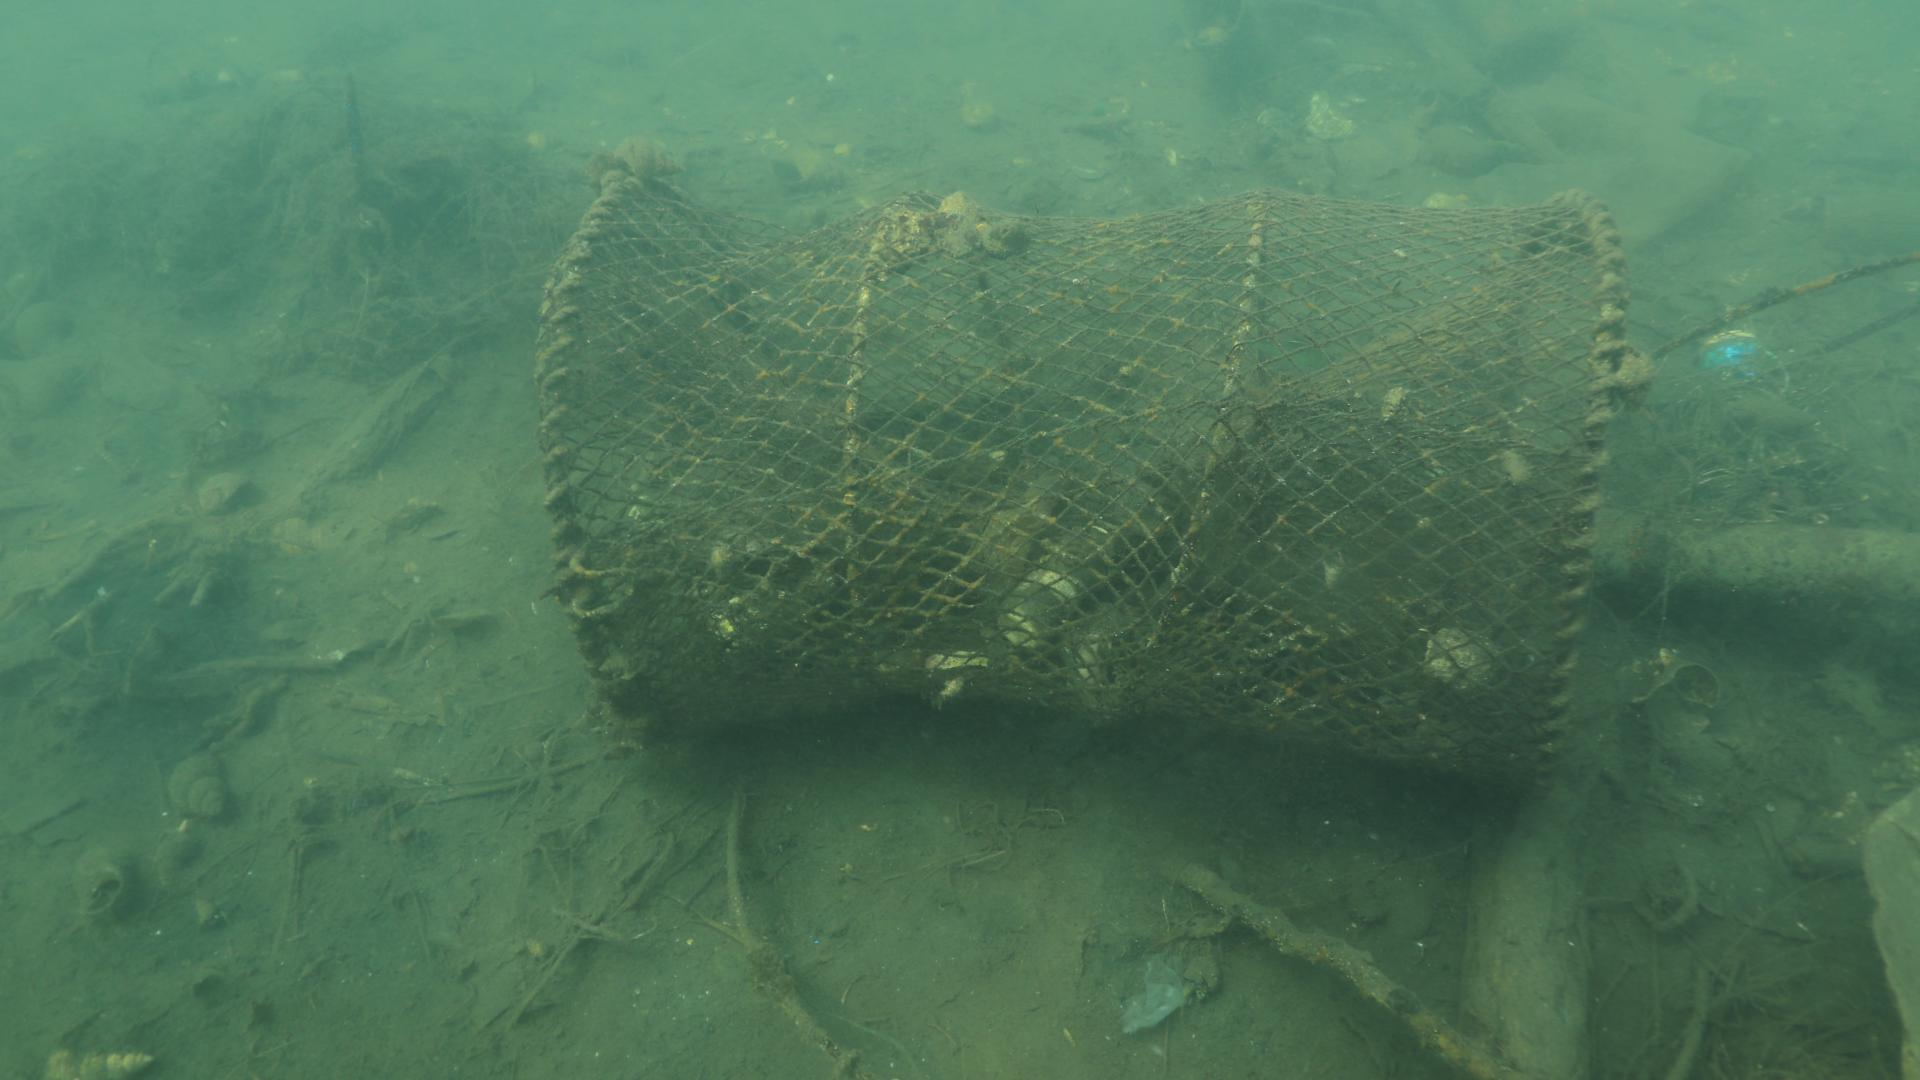spring fish trap: (531, 166, 1626, 800)
